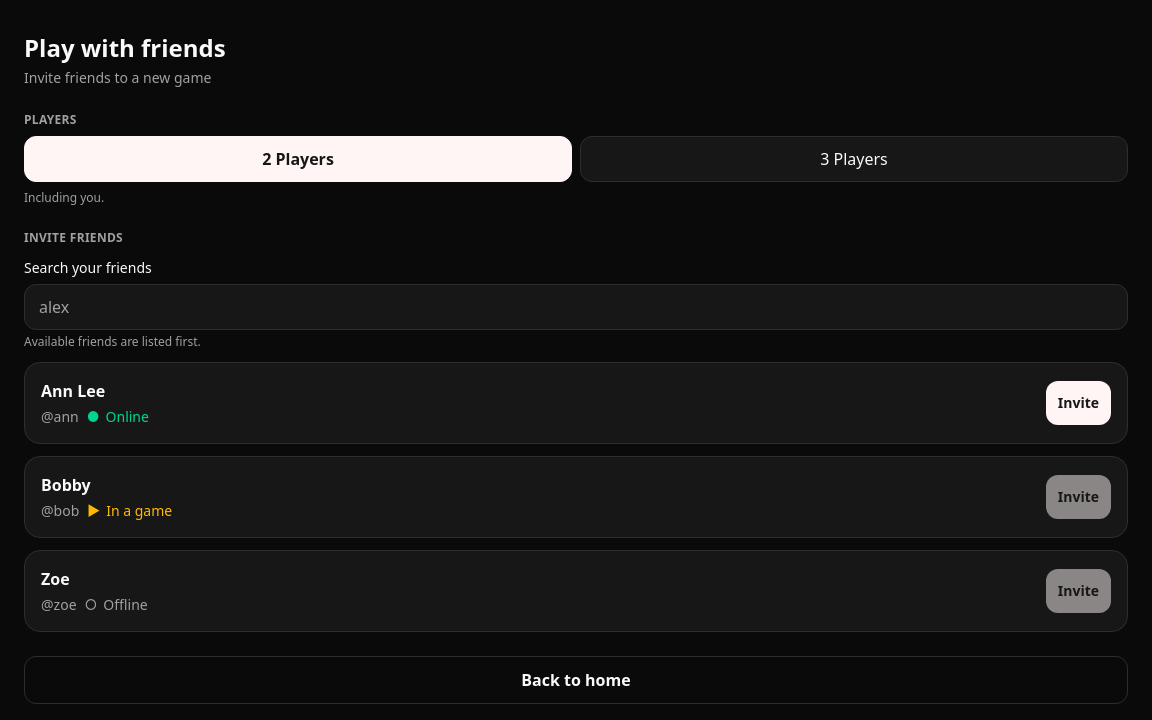
Test: PlayWithFriendsPage — choosing who to play with › filters by the search box
Type "ann" into the search field labelled "Search your friends".
click(576, 307); type("ann")  # box [25,285,1127,329]
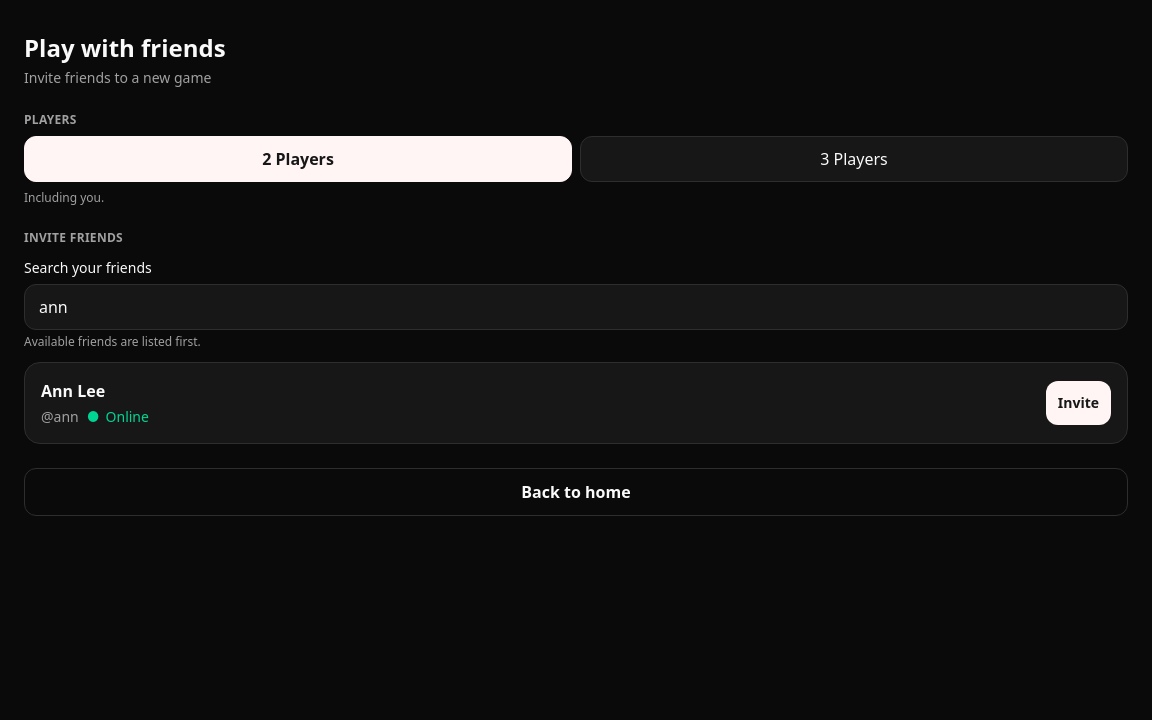
expect the button with aria-label "Invite Ann Lee" is shown: met, box [1046,381,1111,425]
expect the list "Invite Zoe" is gone: met
